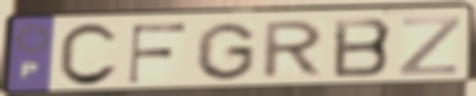B: (330, 16, 396, 80)
C: (55, 21, 121, 90)
F: (125, 22, 189, 86)
G: (192, 20, 259, 83)
R: (257, 19, 328, 82)
Z: (396, 14, 465, 78)
